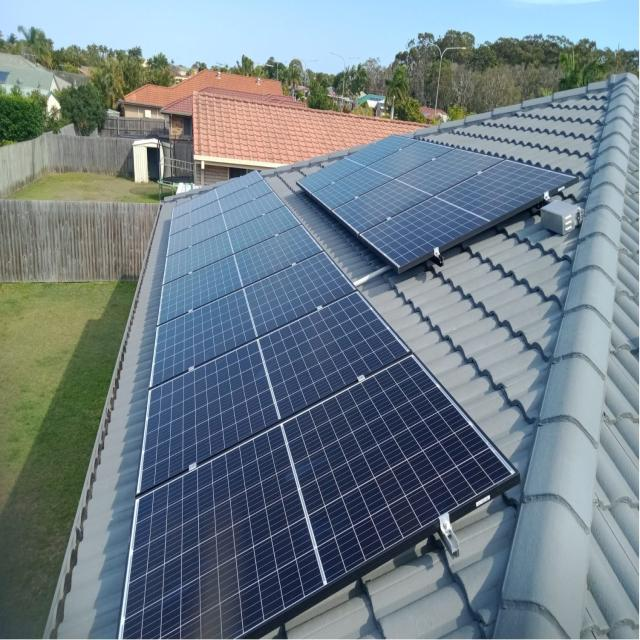clean-solar-panel: (120, 171, 519, 636), (298, 135, 576, 271)
